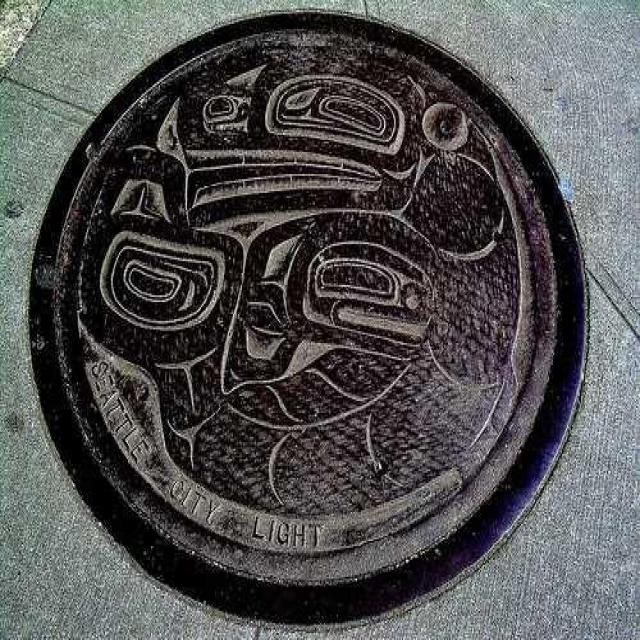manhole: (30, 12, 587, 622)
